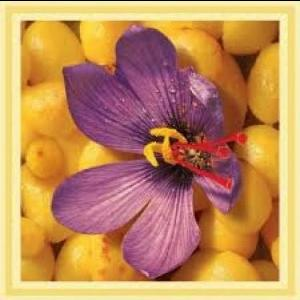Saffron: (54, 26, 236, 274)
